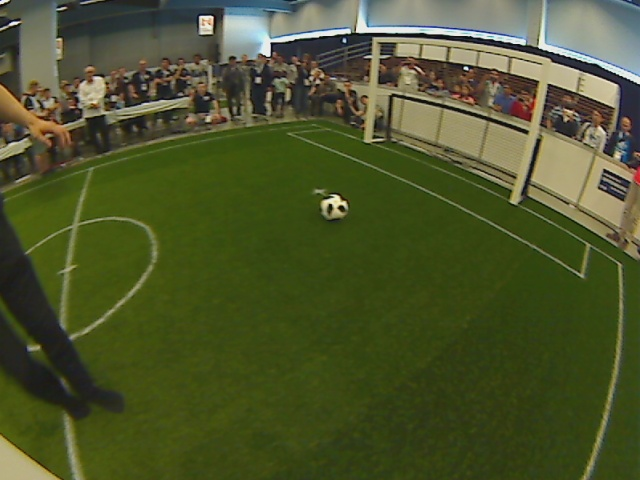ball: (316, 192, 351, 222)
